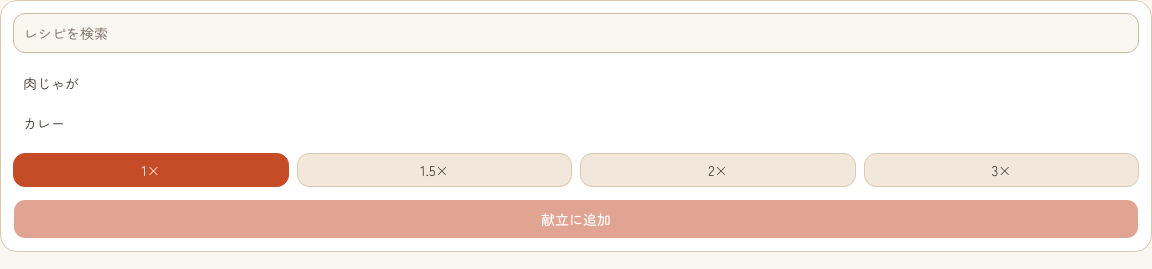
Test: RecipePicker › WC-K-01: 検索欄への入力で絞り込まれる
In the search field labelled "レシピを検索": (576, 33) [13, 13, 1139, 53], type "カレー"
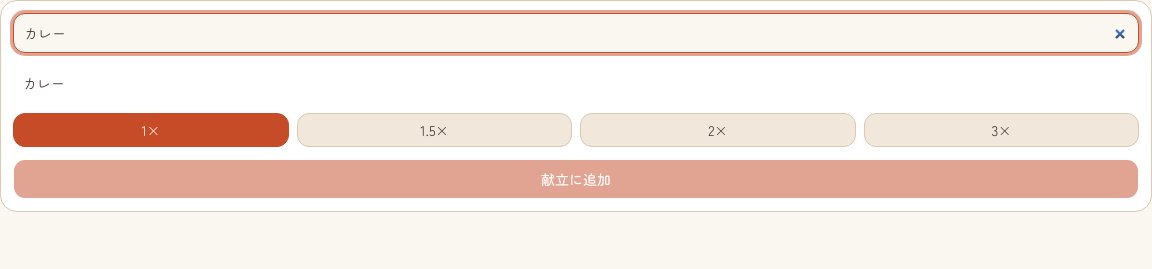
Expected: the button "カレー" is shown, [13, 65, 1139, 101]
Now the button "肉じゃが" is gone
